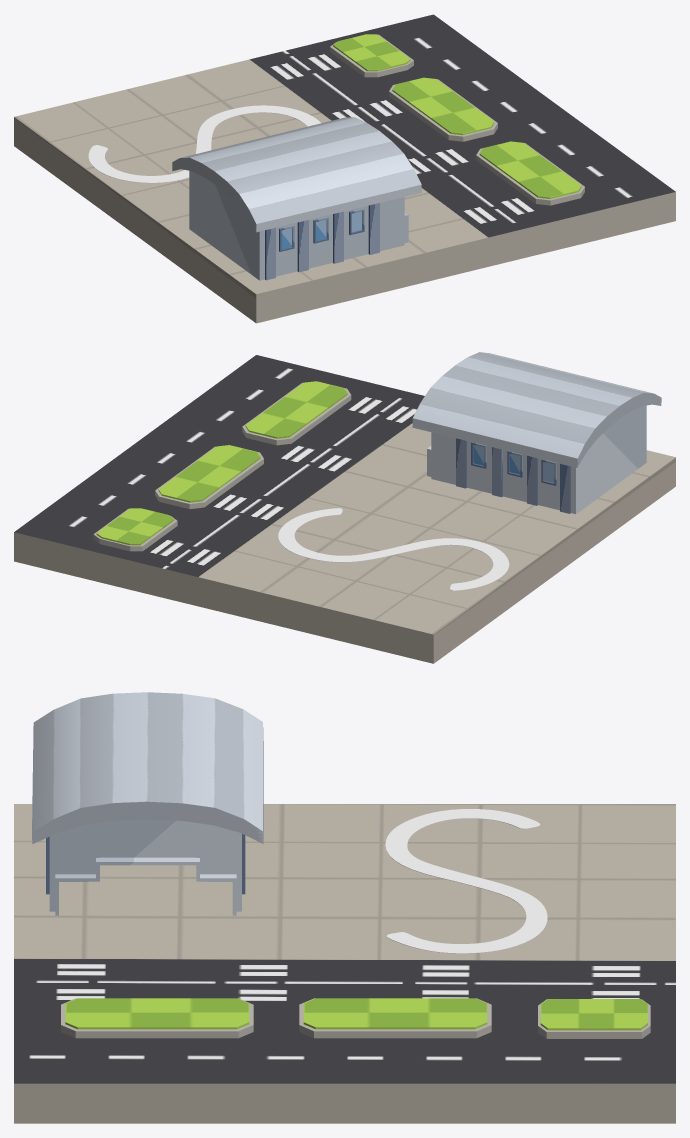
3 views of the same model, one above another, from view 1: azimuth 30°, elevation 25°; view 2: azimuth 150°, elevation 25°; view 3: azimuth 270°, elevation 25° (orthographic). The views are drawn at different scales.
Visible parts, largest first — view 1: Box019, pCube9, pCube8, pCube29, pCube28, Text019, pCube30, pCube12, pCube10, pCube13, pCube11; view 2: Box019, pCube9, pCube8, pCube29, pCube28, Text019, pCube30, pCube14, pCube15, pCube16, pCube17; view 3: Box019, pCube9, pCube8, pCube29, pCube28, Text019, pCube30.
Boxes of the visible parts, box(x1,y1,x2,y2) form: Box019: box(14, 14, 675, 323); pCube9: box(172, 117, 421, 232); pCube8: box(189, 170, 408, 280); pCube29: box(476, 141, 584, 205); pCube28: box(389, 77, 497, 141); Text019: box(88, 105, 320, 183); pCube30: box(330, 34, 413, 77); pCube12: box(297, 220, 308, 272); pCube10: box(368, 203, 379, 254); pCube13: box(265, 227, 275, 280); pCube11: box(333, 211, 343, 263); Box019: box(14, 355, 675, 663); pCube9: box(412, 352, 661, 467); pCube8: box(427, 405, 646, 514); pCube29: box(242, 381, 351, 445); pCube28: box(155, 445, 263, 509); Text019: box(278, 508, 509, 590); pCube30: box(93, 508, 177, 551); pCube14: box(456, 438, 466, 488); pCube15: box(492, 447, 502, 497); pCube16: box(527, 455, 537, 505); pCube17: box(560, 464, 570, 513); Box019: box(14, 804, 675, 1123); pCube9: box(32, 692, 263, 844); pCube8: box(49, 819, 241, 915); pCube29: box(61, 998, 253, 1038); pCube28: box(299, 998, 491, 1038); Text019: box(385, 809, 547, 953); pCube30: box(538, 999, 650, 1038).
Bounding box in the file's own units: 381 × 99.67 × 381.
